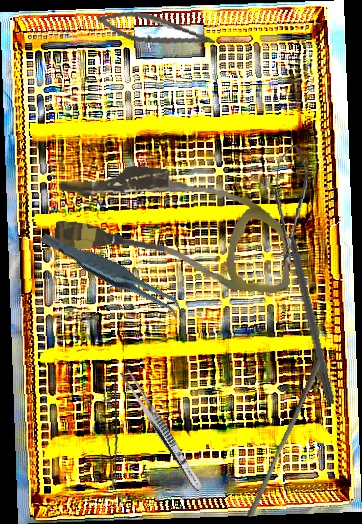Cannula: (51, 159, 298, 295)
Dressing Forceps: (117, 367, 207, 494)
Micro Scissor: (95, 5, 218, 54), (266, 143, 312, 272)
Pusher: (246, 355, 323, 522), (279, 199, 338, 406)
Tissue Forceps: (39, 206, 186, 343), (99, 376, 129, 491)
